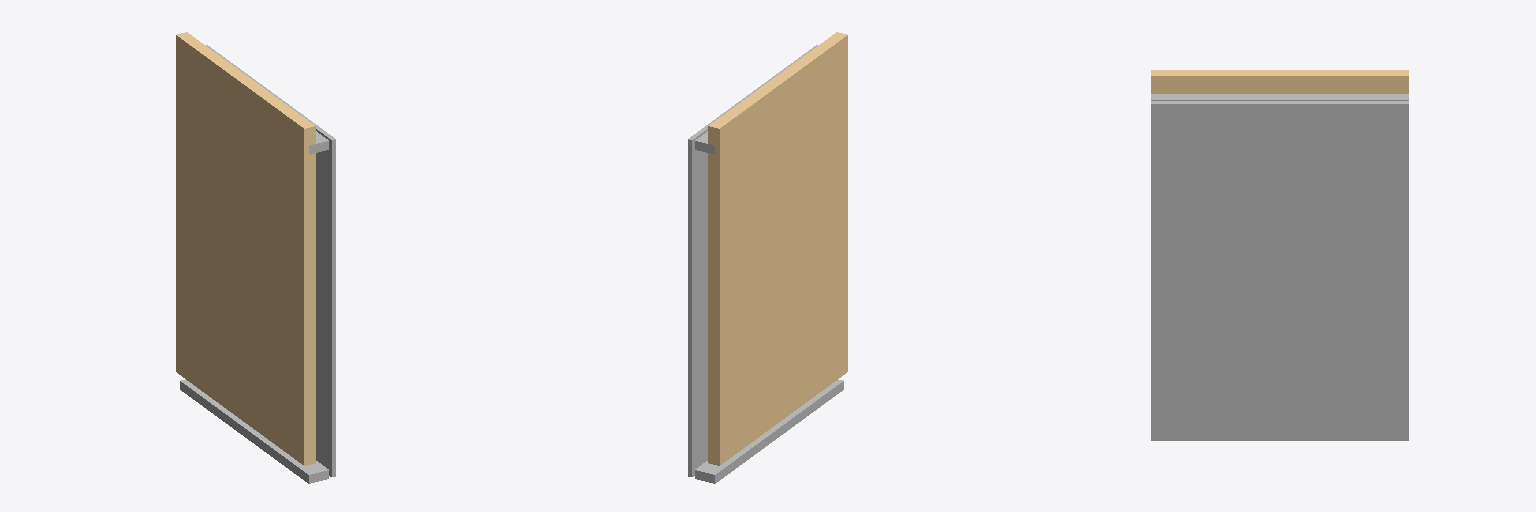
File: tinker.obj
3 renders of one model, left to right at view 1: azimuth 30°, elevation 25°; view 2: azimuth 150°, elevation 25°; view 3: azimuth 270°, elevation 25°, orthographic.
Parts seen in each view (by area): view 1: obj_0; view 2: obj_0; view 3: obj_0.
Boxes of the visible parts, <box> form: obj_0: <box>176,32,335,483</box>; obj_0: <box>688,32,847,483</box>; obj_0: <box>1151,70,1408,440</box>.
Size of the model in its own units: 9.25 by 99.25 by 65.